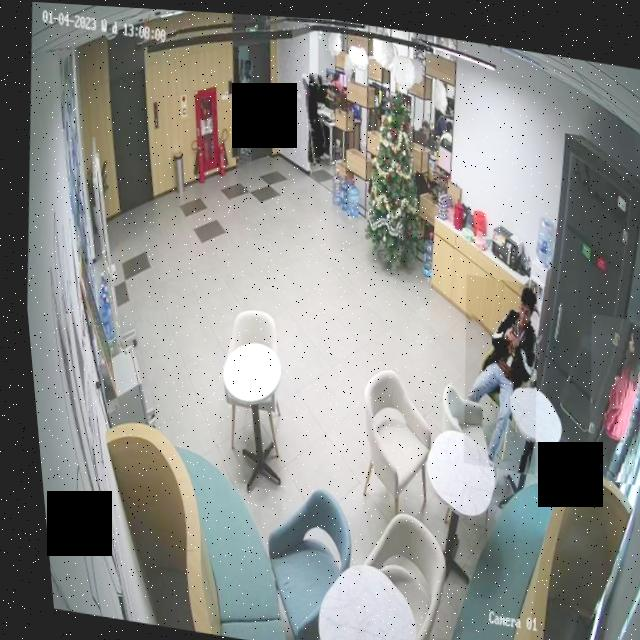person: (442, 268, 546, 469), (569, 305, 640, 479), (295, 68, 335, 162), (223, 55, 258, 160), (410, 112, 434, 147)
